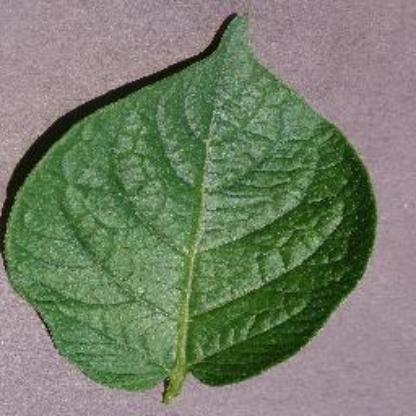Healthy-plant: (3, 8, 384, 400)
